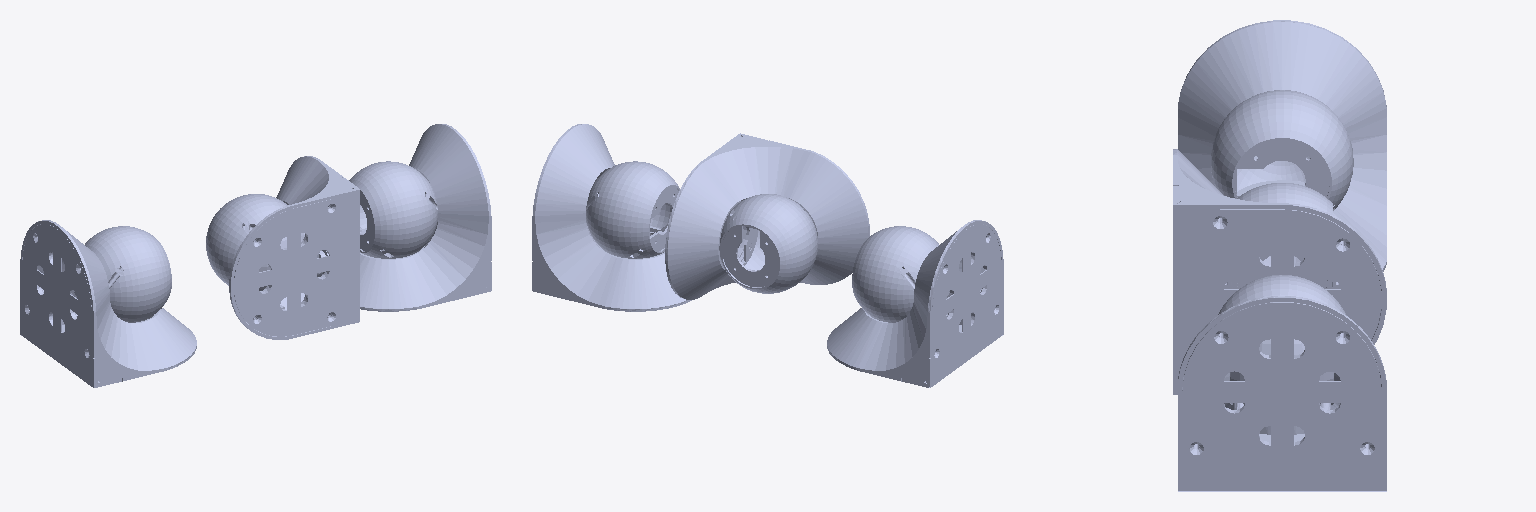
URDF robot description (ubot):
<robot
	name="ubot">
  <link
    name="Body0X">
    <inertial>
      <origin
        xyz="-0.0019165 -0.020284 -1.5446E-08"
        rpy="0 0 0" />
      <mass
        value="0.2" />
      <inertia
        ixx="8.68E-05"
        ixy="-2.3313E-05"
        ixz="-3.6916E-12"
        iyy="8.6964E-05"
        iyz="2.5395E-11"
        izz="8.7186E-05" />
    </inertial>
    <visual>
      <origin
        xyz="0 0 0"
        rpy="0 0 0" />
      <geometry>
        <mesh
          filename="./meshes/BodyX.dae" />
      </geometry>
      <material
        name="">
        <color
          rgba="0.79216 0.81961 0.93333 1" />
      </material>
    </visual>
    <collision>
      <origin
        xyz="0 0 0"
        rpy="0 0 0" />
      <geometry>
        <mesh
          filename="./meshes/BodyXSimple.dae" />
      </geometry>
    </collision>
  </link>

  <link
    name="Body0Center">
    <inertial>
      <origin
        xyz="-0.0022809 -0.0021962 1.0803E-06"
        rpy="0 0 0" />
      <mass
        value="0.05" />
      <inertia
        ixx="1.0293E-05"
        ixy="8.5442E-08"
        ixz="-6.5039E-08"
        iyy="1.0301E-05"
        iyz="6.5245E-08"
        izz="9.1191E-06" />
    </inertial>
    <visual>
      <origin
        xyz="0 0 0"
        rpy="0 0 0" />
      <geometry>
        <mesh
          filename="./meshes/BodyCenter.dae" />
      </geometry>
      <material
        name="">
        <color
          rgba="0.79216 0.81961 0.93333 1" />
      </material>
    </visual>
    <collision>
      <origin
        xyz="0 0 0"
        rpy="0 0 0" />
      <geometry>
        <mesh
          filename="./meshes/BodyCenterSimple.dae" />
      </geometry>
    </collision>
  </link>

  <link
    name="Body0Y">
    <inertial>
      <origin
        xyz="-0.020284 -0.0019165 1.5445E-08"
        rpy="0 0 0" />
      <mass
        value="0.2" />
      <inertia
        ixx="8.6964E-05"
        ixy="-2.3313E-05"
        ixz="-2.5395E-11"
        iyy="8.68E-05"
        iyz="3.6916E-12"
        izz="8.7186E-05" />
    </inertial>
    <visual>
      <origin
        xyz="0 0 0"
        rpy="0 0 0" />
      <geometry>
        <mesh
          filename="./meshes/BodyY.dae" />
      </geometry>
      <material
        name="">
        <color
          rgba="0.79216 0.81961 0.93333 1" />
      </material>
    </visual>
    <collision>
      <origin
        xyz="0 0 0"
        rpy="0 0 0" />
      <geometry>
        <mesh
          filename="./meshes/BodyYSimple.dae" />
      </geometry>
    </collision>
  </link>

  <joint
    name="joint0Y"
    type="revolute">
    <limit effort="1.8" lower="-1.507" upper="1.507" velocity="1.2"/>
    <origin
      xyz="0 -0.0218 0"
      rpy="0 0 0" />
    <parent
      link="Body0Y" />
    <child
      link="Body0Center" />
    <axis
      xyz="0 -1 0" />
  </joint>

  <joint
    name="Joint0X"
    type="revolute">
    <limit effort="1.8" lower="-1.507" upper="1.507" velocity="1.2"/>
    <origin
      xyz="0.0218 0 0"
      rpy="0 0 0" />
    <parent
      link="Body0Center" />
    <child
      link="Body0X" />
    <axis
      xyz="1 0 0" />
  </joint>


  <link
    name="Body1X">
    <inertial>
      <origin
        xyz="-0.0019165 -0.020284 -1.5446E-08"
        rpy="0 0 0" />
      <mass
        value="0.2" />
      <inertia
        ixx="8.68E-05"
        ixy="-2.3313E-05"
        ixz="-3.6916E-12"
        iyy="8.6964E-05"
        iyz="2.5395E-11"
        izz="8.7186E-05" />
    </inertial>
    <visual>
      <origin
        xyz="0 0 0"
        rpy="0 0 0" />
      <geometry>
        <mesh
          filename="./meshes/BodyX.dae" />
      </geometry>
      <material
        name="">
        <color
          rgba="0.79216 0.81961 0.93333 1" />
      </material>
    </visual>
    <collision>
      <origin
        xyz="0 0 0"
        rpy="0 0 0" />
      <geometry>
        <mesh
          filename="./meshes/BodyXSimple.dae" />
      </geometry>
    </collision>
  </link>

  <link
    name="Body1Center">
    <inertial>
      <origin
        xyz="-0.0022809 -0.0021962 1.0803E-06"
        rpy="0 0 0" />
      <mass
        value="0.05" />
      <inertia
        ixx="1.0293E-05"
        ixy="8.5442E-08"
        ixz="-6.5039E-08"
        iyy="1.0301E-05"
        iyz="6.5245E-08"
        izz="9.1191E-06" />
    </inertial>
    <visual>
      <origin
        xyz="0 0 0"
        rpy="0 0 0" />
      <geometry>
        <mesh
          filename="./meshes/BodyCenter.dae" />
      </geometry>
      <material
        name="">
        <color
          rgba="0.79216 0.81961 0.93333 1" />
      </material>
    </visual>
    <collision>
      <origin
        xyz="0 0 0"
        rpy="0 0 0" />
      <geometry>
        <mesh
          filename="./meshes/BodyCenterSimple.dae" />
      </geometry>
    </collision>
  </link>

  <link
    name="Body1Y">
    <inertial>
      <origin
        xyz="-0.020284 -0.0019165 1.5445E-08"
        rpy="0 0 0" />
      <mass
        value="0.2" />
      <inertia
        ixx="8.6964E-05"
        ixy="-2.3313E-05"
        ixz="-2.5395E-11"
        iyy="8.68E-05"
        iyz="3.6916E-12"
        izz="8.7186E-05" />
    </inertial>
    <visual>
      <origin
        xyz="0 0 0"
        rpy="0 0 0" />
      <geometry>
        <mesh
          filename="./meshes/BodyY.dae" />
      </geometry>
      <material
        name="">
        <color
          rgba="0.79216 0.81961 0.93333 1" />
      </material>
    </visual>
    <collision>
      <origin
        xyz="0 0 0"
        rpy="0 0 0" />
      <geometry>
        <mesh
          filename="./meshes/BodyYSimple.dae" />
      </geometry>
    </collision>
  </link>

  <joint
    name="joint1Y"
    type="revolute">
    <limit effort="1.8" lower="-1.507" upper="1.507" velocity="1.2"/>
    <origin
      xyz="0 -0.0218 0"
      rpy="0 0 0" />
    <parent
      link="Body1Y" />
    <child
      link="Body1Center" />
    <axis
      xyz="0 -1 0" />
  </joint>

  <joint
    name="Joint1X"
    type="revolute">
    <limit effort="1.8" lower="-1.507" upper="1.507" velocity="1.2"/>
    <origin
      xyz="0.0218 0 0"
      rpy="0 0 0" />
    <parent
      link="Body1Center" />
    <child
      link="Body1X" />
    <axis
      xyz="1 0 0" />
  </joint>


  <joint
    name="Joint0to1"
    type="fixed">
    <origin
      xyz="0.048 0.0 0.0"
      rpy="0 1.5707963267948966 1.5707963267948966" />
    <parent
      link="Body0X" />
    <child
      link="Body1Y" />
    <axis
      xyz="0 0 0" />
  </joint>

  <link
    name="Body2X">
    <inertial>
      <origin
        xyz="-0.0019165 -0.020284 -1.5446E-08"
        rpy="0 0 0" />
      <mass
        value="0.2" />
      <inertia
        ixx="8.68E-05"
        ixy="-2.3313E-05"
        ixz="-3.6916E-12"
        iyy="8.6964E-05"
        iyz="2.5395E-11"
        izz="8.7186E-05" />
    </inertial>
    <visual>
      <origin
        xyz="0 0 0"
        rpy="0 0 0" />
      <geometry>
        <mesh
          filename="./meshes/BodyX.dae" />
      </geometry>
      <material
        name="">
        <color
          rgba="0.79216 0.81961 0.93333 1" />
      </material>
    </visual>
    <collision>
      <origin
        xyz="0 0 0"
        rpy="0 0 0" />
      <geometry>
        <mesh
          filename="./meshes/BodyXSimple.dae" />
      </geometry>
    </collision>
  </link>

  <link
    name="Body2Center">
    <inertial>
      <origin
        xyz="-0.0022809 -0.0021962 1.0803E-06"
        rpy="0 0 0" />
      <mass
        value="0.05" />
      <inertia
        ixx="1.0293E-05"
        ixy="8.5442E-08"
        ixz="-6.5039E-08"
        iyy="1.0301E-05"
        iyz="6.5245E-08"
        izz="9.1191E-06" />
    </inertial>
    <visual>
      <origin
        xyz="0 0 0"
        rpy="0 0 0" />
      <geometry>
        <mesh
          filename="./meshes/BodyCenter.dae" />
      </geometry>
      <material
        name="">
        <color
          rgba="0.79216 0.81961 0.93333 1" />
      </material>
    </visual>
    <collision>
      <origin
        xyz="0 0 0"
        rpy="0 0 0" />
      <geometry>
        <mesh
          filename="./meshes/BodyCenterSimple.dae" />
      </geometry>
    </collision>
  </link>

  <link
    name="Body2Y">
    <inertial>
      <origin
        xyz="-0.020284 -0.0019165 1.5445E-08"
        rpy="0 0 0" />
      <mass
        value="0.2" />
      <inertia
        ixx="8.6964E-05"
        ixy="-2.3313E-05"
        ixz="-2.5395E-11"
        iyy="8.68E-05"
        iyz="3.6916E-12"
        izz="8.7186E-05" />
    </inertial>
    <visual>
      <origin
        xyz="0 0 0"
        rpy="0 0 0" />
      <geometry>
        <mesh
          filename="./meshes/BodyY.dae" />
      </geometry>
      <material
        name="">
        <color
          rgba="0.79216 0.81961 0.93333 1" />
      </material>
    </visual>
    <collision>
      <origin
        xyz="0 0 0"
        rpy="0 0 0" />
      <geometry>
        <mesh
          filename="./meshes/BodyYSimple.dae" />
      </geometry>
    </collision>
  </link>

  <joint
    name="joint2Y"
    type="revolute">
    <limit effort="1.8" lower="-1.507" upper="1.507" velocity="1.2"/>
    <origin
      xyz="0 -0.0218 0"
      rpy="0 0 0" />
    <parent
      link="Body2Y" />
    <child
      link="Body2Center" />
    <axis
      xyz="0 -1 0" />
  </joint>

  <joint
    name="Joint2X"
    type="revolute">
    <limit effort="1.8" lower="-1.507" upper="1.507" velocity="1.2"/>
    <origin
      xyz="0.0218 0 0"
      rpy="0 0 0" />
    <parent
      link="Body2Center" />
    <child
      link="Body2X" />
    <axis
      xyz="1 0 0" />
  </joint>


  <joint
    name="Joint0to2"
    type="fixed">
    <origin
      xyz="-0.0698 -0.0218 0.0"
      rpy="0 1.5707963267948966 -1.5707963267948966" />
    <parent
      link="Body0Y" />
    <child
      link="Body2Y" />
    <axis
      xyz="0 0 0" />
  </joint>

</robot>

--- Facts derived from the render (not from the file) ---
The picture shows the robot from 3 angles, left to right: view 1: azimuth 30°, elevation 25°; view 2: azimuth 150°, elevation 25°; view 3: azimuth 270°, elevation 25°; orthographic projection.
Model ubot with 9 links and 8 joints (6 revolute, 2 fixed), rooted at Body0Y, posed all joints at 0.
Links seen in each view (by area): view 1: Body0X, Body2X, Body1X, Body1Center, Body2Center, Body0Center; view 2: Body0X, Body2X, Body1X, Body0Center, Body1Center, Body2Center; view 3: Body1X, Body0X, Body2X, Body2Center, Body1Center, Body0Center.
Boxes of the visible links, left/top/right/bottom form: Body0X: left=229, top=156, right=359, bottom=339; Body2X: left=20, top=220, right=196, bottom=387; Body1X: left=360, top=124, right=491, bottom=311; Body1Center: left=349, top=161, right=437, bottom=258; Body2Center: left=85, top=226, right=171, bottom=322; Body0Center: left=206, top=194, right=287, bottom=285; Body0X: left=665, top=133, right=869, bottom=299; Body2X: left=827, top=220, right=1003, bottom=387; Body1X: left=532, top=124, right=691, bottom=311; Body0Center: left=719, top=194, right=817, bottom=293; Body1Center: left=586, top=161, right=679, bottom=258; Body2Center: left=852, top=226, right=938, bottom=322; Body1X: left=1178, top=296, right=1386, bottom=491; Body0X: left=1173, top=149, right=1386, bottom=394; Body2X: left=1178, top=20, right=1386, bottom=271; Body2Center: left=1211, top=90, right=1353, bottom=210; Body1Center: left=1218, top=275, right=1346, bottom=315; Body0Center: left=1237, top=183, right=1332, bottom=288.
Size in the robot's own frame: 0.2748 by 0.0898 by 0.0898 metres.
Meshes: 3 distinct files referenced, 6 mesh visuals loaded (2 Collada DAE); not drawn: 3 (reference not matched to a file when rendering).
